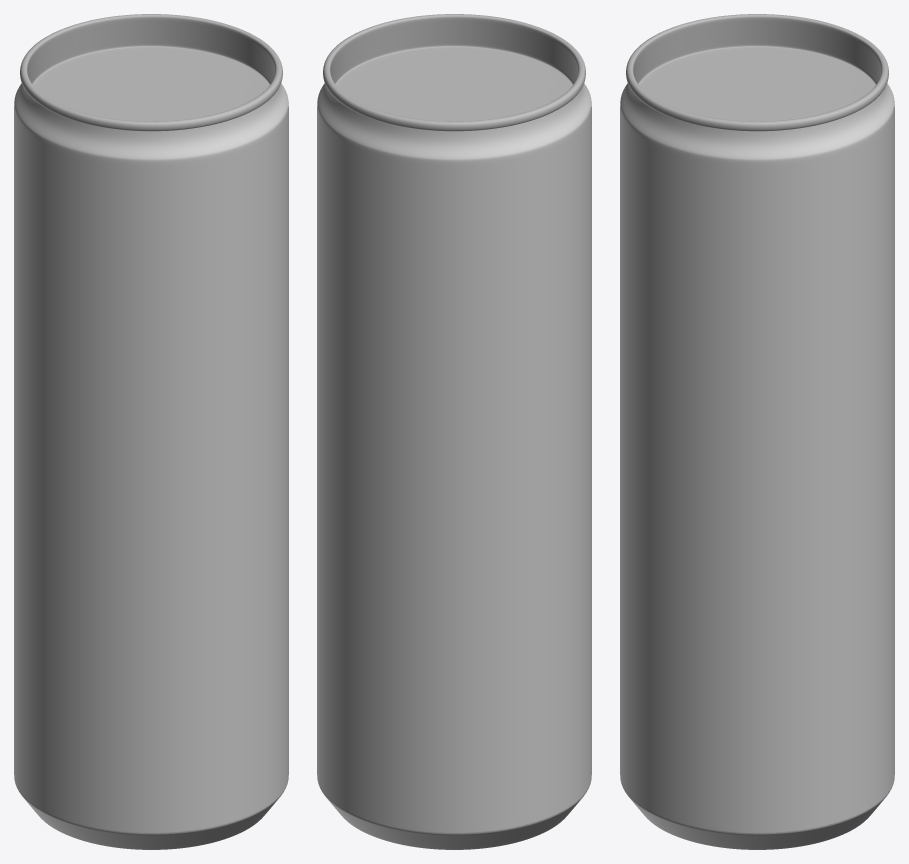
3 renders of one model, left to right at view 1: azimuth 30°, elevation 25°; view 2: azimuth 150°, elevation 25°; view 3: azimuth 270°, elevation 25°, orthographic.
Visible parts, largest first — view 1: can; view 2: can; view 3: can.
Boxes of the visible parts, bbox=[...] form: can: bbox=[14, 14, 288, 849]; can: bbox=[317, 14, 591, 849]; can: bbox=[620, 14, 894, 849].
Size of the model in its own units: 1.34 by 3.95 by 1.34.
1 material, 1 textured.
